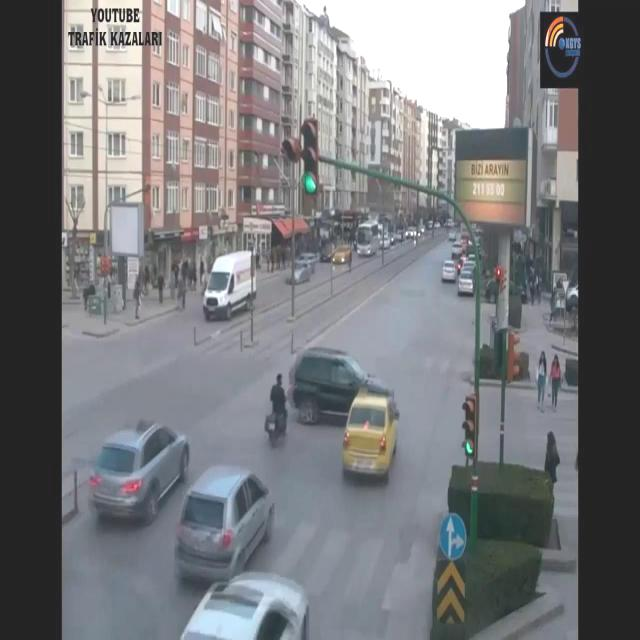accident: (291, 346, 401, 486)
non-accident: (90, 414, 276, 586), (169, 462, 311, 640), (439, 224, 485, 296), (331, 222, 389, 264)
